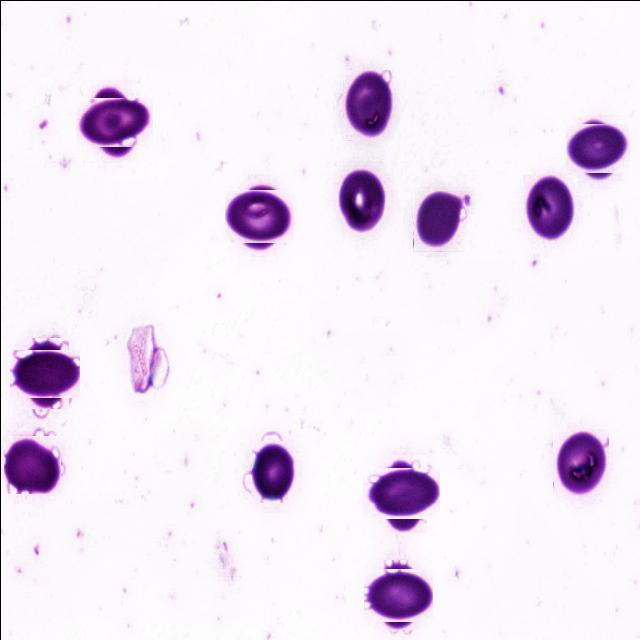red blood cell: (81, 90, 146, 154), (368, 460, 432, 524), (552, 428, 608, 498), (228, 184, 290, 247), (366, 563, 428, 625), (14, 342, 74, 402), (522, 174, 576, 240), (342, 69, 392, 140), (338, 167, 388, 234), (3, 435, 60, 493), (569, 120, 626, 177), (412, 190, 464, 251), (251, 440, 295, 502)
